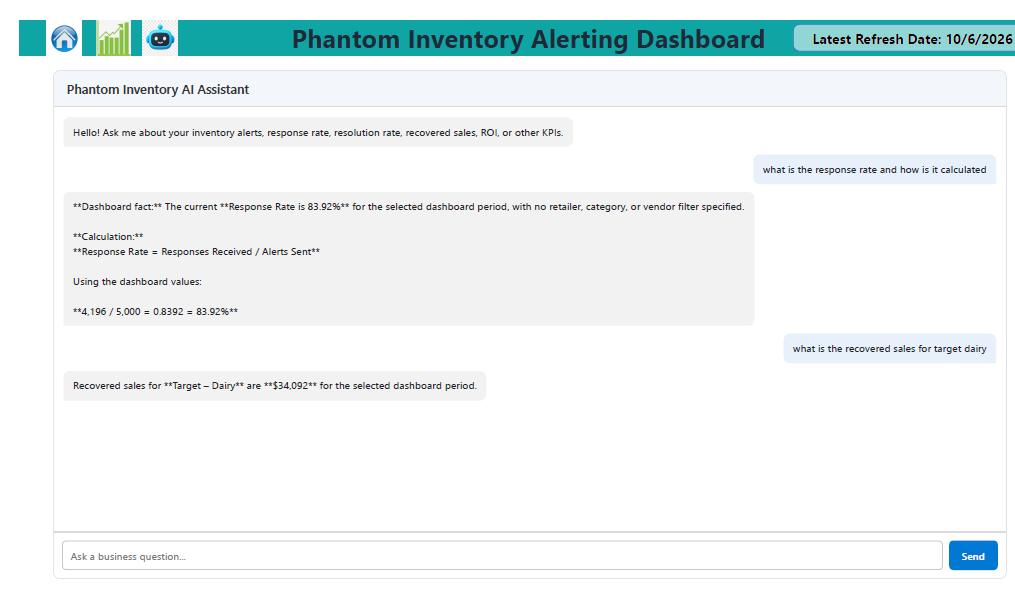

What the dashboard file says about the page in this screenshot:
{"tool":"powerbi","page":{"name":"AI Assistant","canvas":[1280,720],"ordinal":2},"visuals":[{"type":"powerBIChatA90699859FAF4CF2BAF063778E81E503","box":[37.4,57.6,1208.2,649.4],"z":0},{"type":"shape","box":[0,0,1280,43.6],"z":1},{"type":"shape","box":[972,4.3,301,34.6],"z":2},{"type":"image","box":[27.4,0,57.8,44],"z":3},{"type":"image","box":[91.2,0,54.7,44.1],"z":4},{"type":"image","box":[149.8,0,53.3,44],"z":5}]}

Visuals, with their boxes in screenshot pixels (x1, y1, x2, y2):
powerBIChatA90699859FAF4CF2BAF063778E81E503: select_region(53, 61, 998, 569)
shape: select_region(24, 16, 1014, 50)
shape: select_region(784, 19, 1014, 46)
image: select_region(45, 16, 90, 50)
image: select_region(95, 16, 138, 50)
image: select_region(141, 16, 183, 50)
